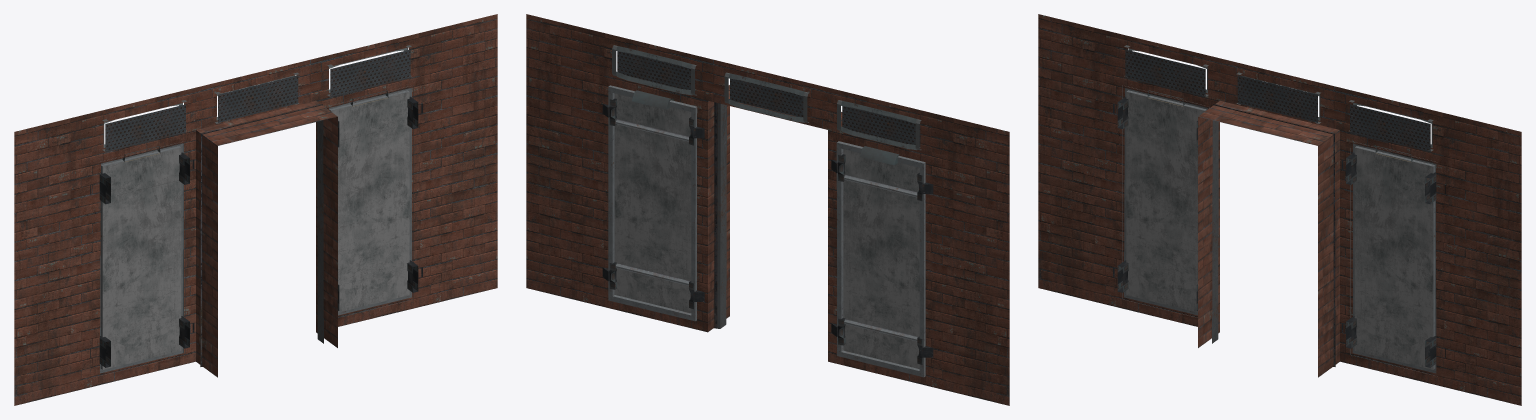
File: ARC0910034.fbx
The picture shows the model from 3 angles, left to right: view 1: azimuth 30°, elevation 25°; view 2: azimuth 150°, elevation 25°; view 3: azimuth 330°, elevation 25°; orthographic projection.
Visible parts, largest first — view 1: smARC0910034; view 2: smARC0910034; view 3: smARC0910034.
Part boxes in pixels (left/top/right/bottom): smARC0910034: left=14, top=14, right=497, bottom=405; smARC0910034: left=526, top=14, right=1009, bottom=405; smARC0910034: left=1038, top=14, right=1521, bottom=405.
Bounding box in the file's own units: 554 × 301 × 53.42.
1 material, 1 textured.
